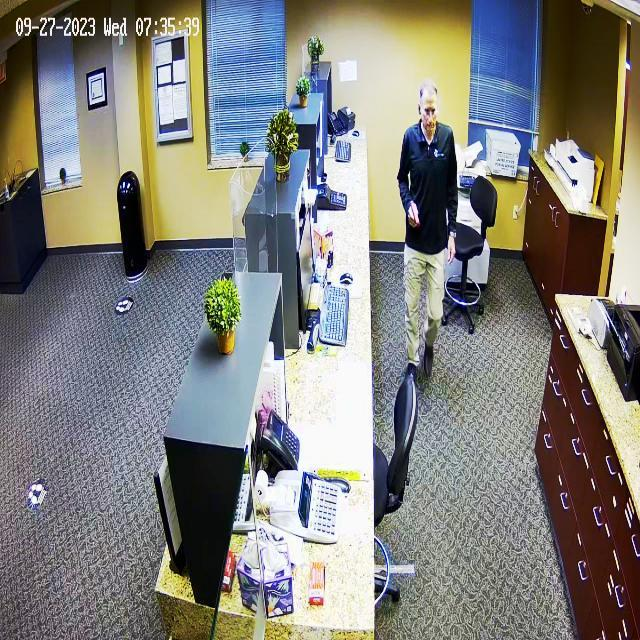Gun: (398, 193, 435, 237)
